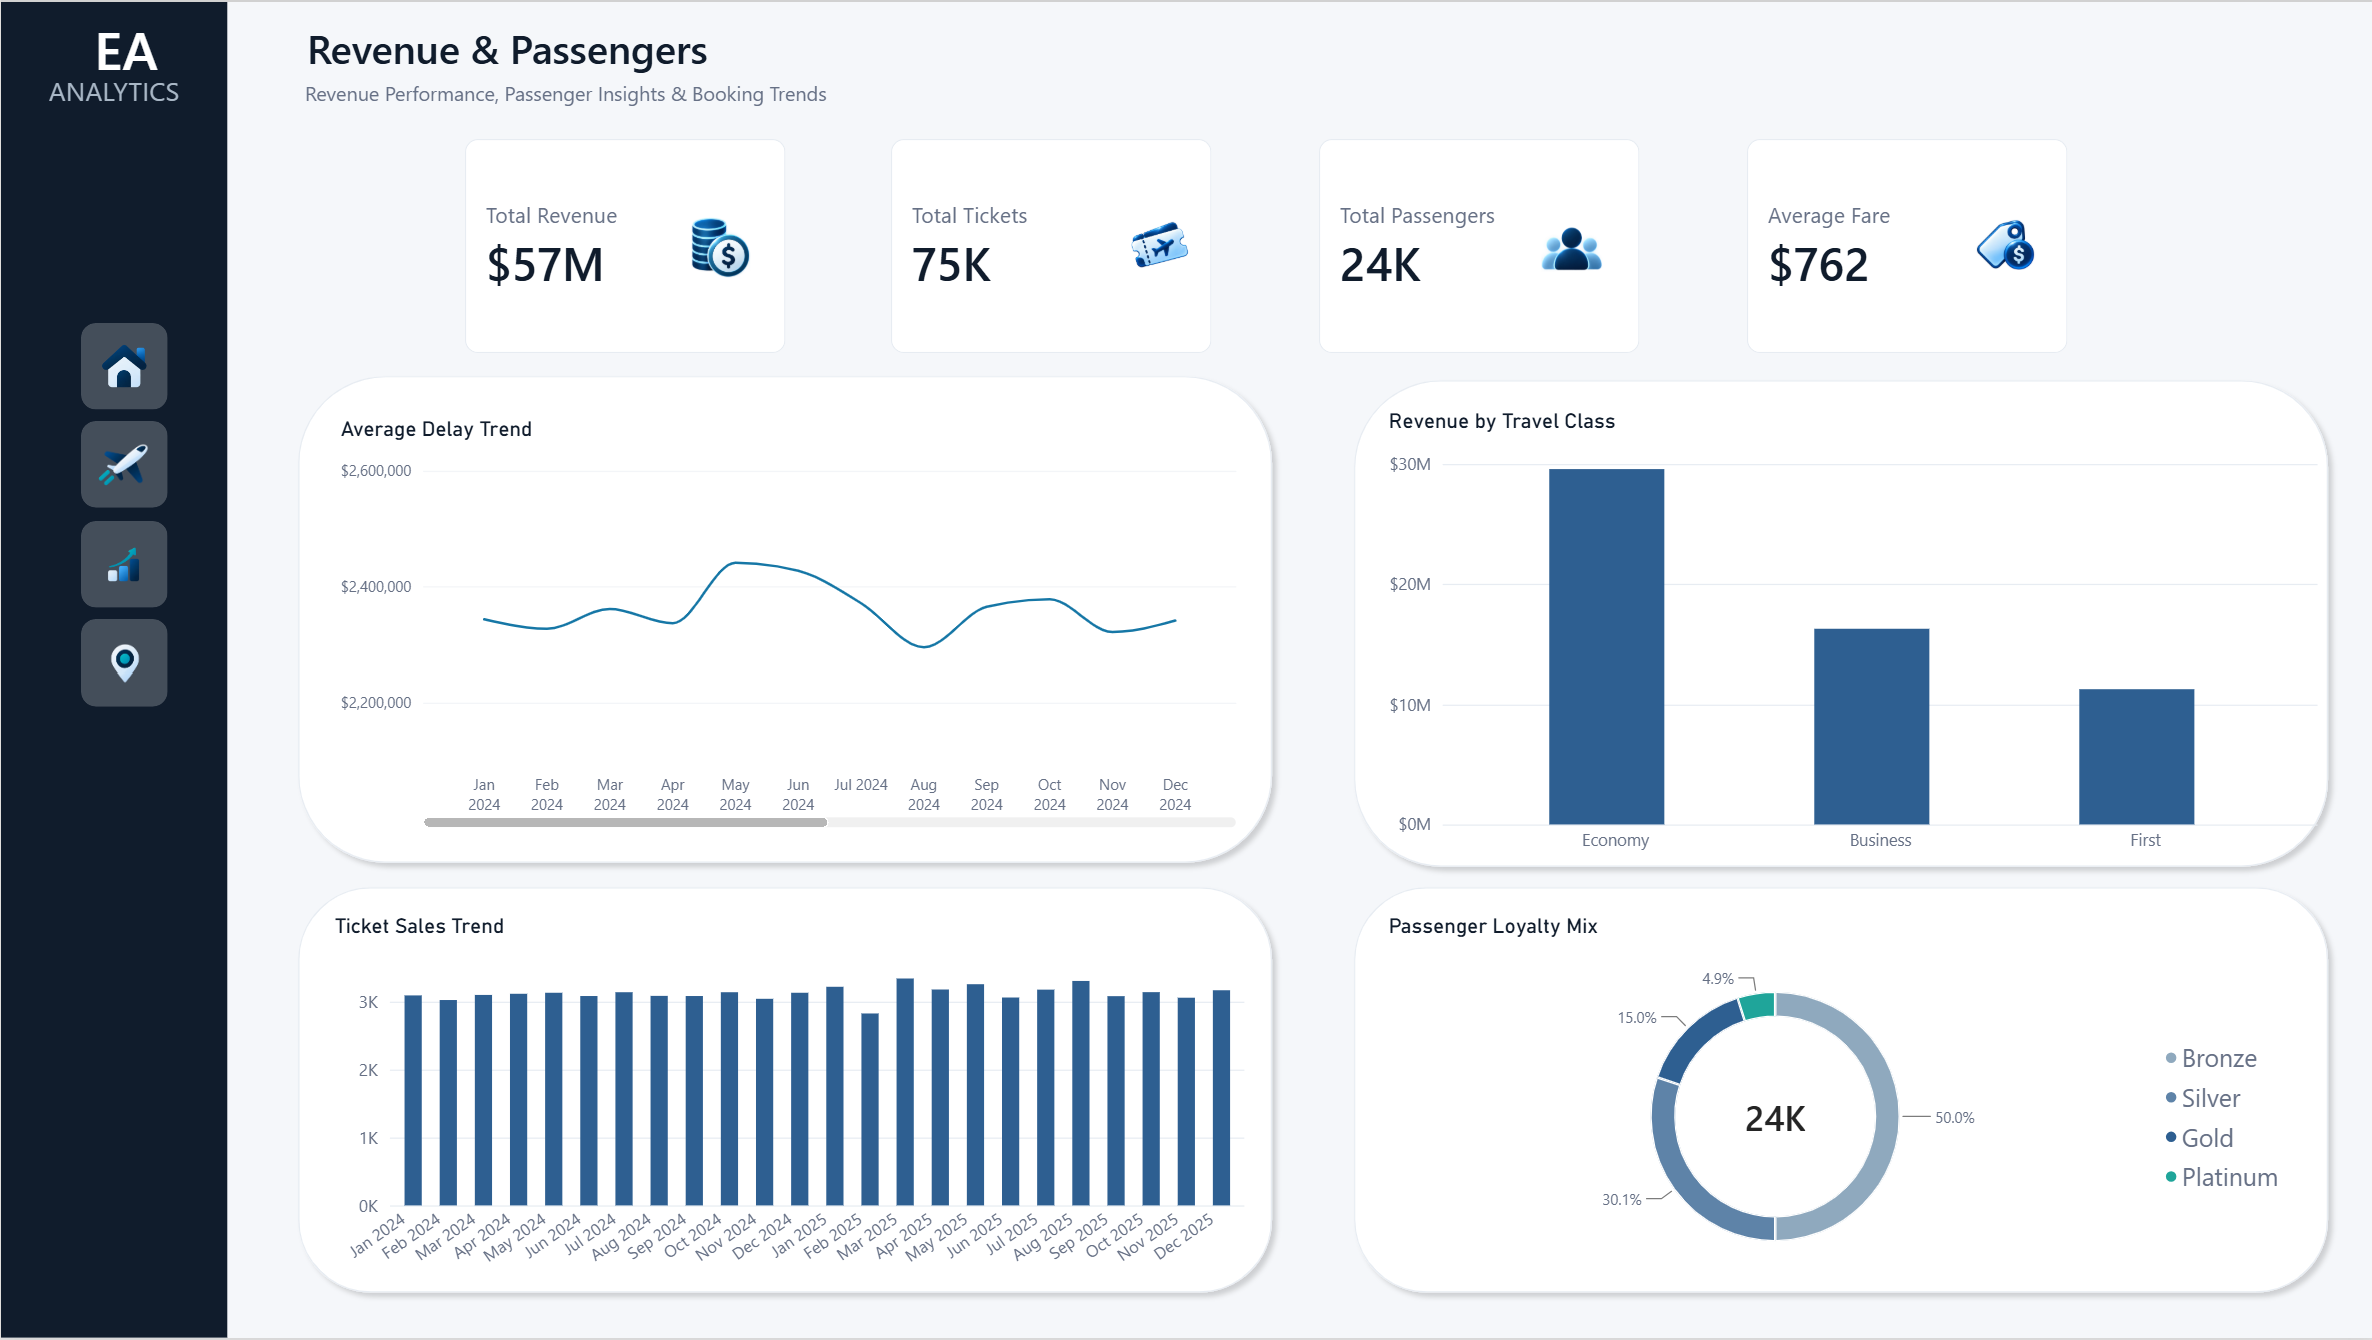

The page's visual inventory and layout, read from the dashboard file:
{"tool":"powerbi","page":{"name":"03 | Revenue & Passengers","canvas":[1920,1080],"ordinal":2},"visuals":[{"type":"shape","box":[0,0,182.9,1079.3],"z":0},{"type":"textbox","box":[247,16.1,453.8,67.1],"z":1000},{"type":"textbox","box":[246,63.5,560.1,66.6],"z":2000},{"type":"textbox","box":[10,10,182.9,58],"z":3000},{"type":"textbox","box":[0,58,182.9,55.7],"z":4000},{"type":"actionButton","box":[64.7,260.9,70,70],"z":5000},{"type":"image","box":[78,276.5,44.6,37.9],"z":6000},{"type":"actionButton","box":[64,340,70,70],"z":7000},{"type":"actionButton","box":[64.7,420,70,70],"z":8000},{"type":"actionButton","box":[64.7,500,70,70],"z":9000},{"type":"image","box":[78,356,44,37],"z":10000},{"type":"image","box":[78,436,44,37],"z":11000},{"type":"image","box":[78,516,44,37],"z":12000},{"type":"cardVisual","fields":{"Data":["_Measures.Total Revenue"]},"box":[374.2,111.7,259.3,173.6],"z":13000},{"type":"cardVisual","fields":{"Data":["_Measures.Total Tickets"]},"box":[719.8,111.7,259.3,173.6],"z":14000},{"type":"cardVisual","fields":{"Data":["_Measures.Total Passengers"]},"box":[1065.3,111.7,259.3,173.6],"z":15000},{"type":"cardVisual","fields":{"Data":["_Measures.Average Fare"]},"box":[1410.8,111.7,259.3,173.6],"z":16000},{"type":"shape","box":[231.9,294.4,805,410.3],"z":17000},{"type":"shape","box":[231.9,706.9,805,345.6],"z":18000},{"type":"shape","box":[1083.8,296.6,805,410.3],"z":19000},{"type":"shape","box":[1083.8,706.9,805,345.6],"z":20000},{"type":"lineChart","title":"Average Delay Trend","fields":{"Category":["Dim_Date.Month Year"],"Y":["_Measures.Total Revenue"]},"box":[258.7,321.1,758.2,361.3],"z":21000},{"type":"donutChart","title":"Passenger Loyalty Mix","fields":{"Category":["Dim_Passengers.Loyalty_Tier"],"Y":["_Measures.Total Passengers"]},"box":[1106.1,722.5,760.4,323.3],"z":22000},{"type":"clusteredColumnChart","title":"Revenue by Travel Class","fields":{"Category":["Fact_Tickets.Class"],"Y":["_Measures.Total Revenue"]},"box":[1106.1,314.4,782.7,392.5],"z":23000},{"type":"clusteredColumnChart","title":"Ticket Sales Trend","fields":{"Category":["Dim_Date.Month Year"],"Y":["_Measures.Total Tickets"]},"box":[254.2,722.5,767.1,330],"z":24000},{"type":"image","box":[555.3,173.9,50,50],"z":25000},{"type":"image","box":[1244.3,173.9,50,50],"z":26000},{"type":"image","box":[1594.4,171.7,50,50],"z":27000},{"type":"image","box":[909.8,171.7,50,50],"z":28000}]}

Visuals, with their boxes in screenshot pixels (x1, y1, x2, y2), scaled from the page's 1920x1080 canvas onto the 2372x1340 screenshot:
shape: box=[0, 0, 226, 1339]
textbox: box=[305, 20, 866, 103]
textbox: box=[304, 79, 996, 161]
textbox: box=[12, 12, 238, 84]
textbox: box=[0, 72, 226, 141]
actionButton: box=[80, 324, 166, 411]
image: box=[96, 343, 151, 390]
actionButton: box=[79, 422, 166, 509]
actionButton: box=[80, 521, 166, 608]
actionButton: box=[80, 620, 166, 707]
image: box=[96, 442, 151, 488]
image: box=[96, 541, 151, 587]
image: box=[96, 640, 151, 686]
cardVisual - _Measures.Total Revenue: box=[462, 139, 783, 354]
cardVisual - _Measures.Total Tickets: box=[889, 139, 1210, 354]
cardVisual - _Measures.Total Passengers: box=[1316, 139, 1636, 354]
cardVisual - _Measures.Average Fare: box=[1743, 139, 2063, 354]
shape: box=[286, 365, 1281, 874]
shape: box=[286, 877, 1281, 1306]
shape: box=[1339, 368, 2333, 877]
shape: box=[1339, 877, 2333, 1306]
"Average Delay Trend" lineChart: box=[320, 398, 1256, 847]
"Passenger Loyalty Mix" donutChart: box=[1366, 896, 2306, 1298]
"Revenue by Travel Class" clusteredColumnChart: box=[1366, 390, 2333, 877]
"Ticket Sales Trend" clusteredColumnChart: box=[314, 896, 1262, 1306]
image: box=[686, 216, 748, 278]
image: box=[1537, 216, 1599, 278]
image: box=[1970, 213, 2032, 275]
image: box=[1124, 213, 1186, 275]
